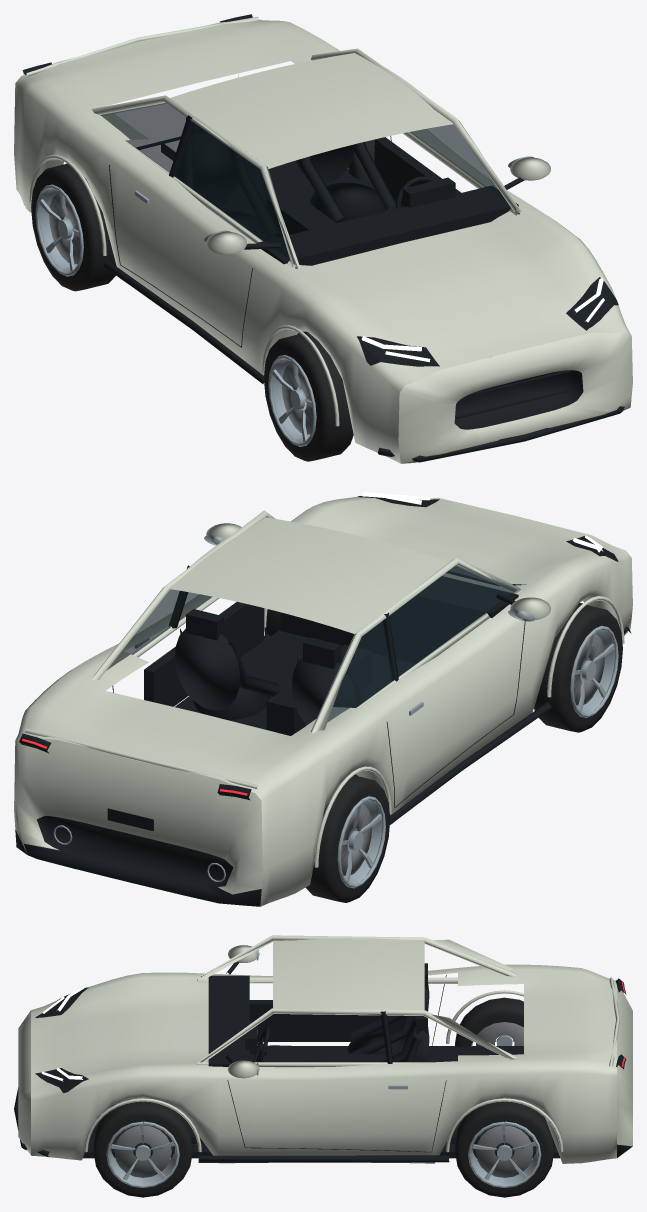
The model's file is aeris-lod1.glb.
3 renders of one model, top to bottom at view 1: azimuth 30°, elevation 25°; view 2: azimuth 150°, elevation 25°; view 3: azimuth 270°, elevation 25°, orthographic. The views are drawn at different scales.
Visible parts, largest first — view 1: sculpted-coachwork_merged, carbon-rear-valance_merged, panoramic-windscreen_merged, profiled-tire (×2), rim-barrel_merged (×2), ventilated-brake-rotor (×2), led-signature_merged; view 2: sculpted-coachwork_merged, carbon-rear-valance_merged, panoramic-windscreen_merged, profiled-tire (×2), rim-barrel_merged (×2), ventilated-brake-rotor (×2), flush-door-handle_merged, led-signature_merged; view 3: sculpted-coachwork_merged, carbon-rear-valance_merged, profiled-tire (×3), ventilated-brake-rotor (×3), rim-barrel_merged (×2), led-signature_merged.
Boxes of the visible parts, bbox=[...] form: sculpted-coachwork_merged: bbox=[14, 16, 632, 463]; carbon-rear-valance_merged: bbox=[22, 14, 624, 462]; panoramic-windscreen_merged: bbox=[100, 103, 516, 264]; profiled-tire (×2): bbox=[31, 163, 353, 461]; rim-barrel_merged (×2): bbox=[35, 184, 316, 446]; ventilated-brake-rotor (×2): bbox=[49, 193, 313, 434]; led-signature_merged: bbox=[361, 278, 604, 362]; sculpted-coachwork_merged: bbox=[14, 497, 632, 906]; carbon-rear-valance_merged: bbox=[15, 496, 631, 906]; panoramic-windscreen_merged: bbox=[107, 565, 516, 721]; profiled-tire (×2): bbox=[305, 603, 622, 902]; rim-barrel_merged (×2): bbox=[337, 625, 618, 888]; ventilated-brake-rotor (×2): bbox=[341, 634, 604, 875]; flush-door-handle_merged: bbox=[53, 535, 535, 881]; led-signature_merged: bbox=[362, 492, 603, 552]; sculpted-coachwork_merged: bbox=[18, 935, 632, 1163]; carbon-rear-valance_merged: bbox=[14, 961, 632, 1162]; profiled-tire (×3): bbox=[93, 997, 554, 1197]; ventilated-brake-rotor (×3): bbox=[114, 1022, 533, 1177]; rim-barrel_merged (×2): bbox=[106, 1121, 541, 1187]; led-signature_merged: bbox=[41, 986, 84, 1081].
Bounding box in the file's own units: 2.09 × 1.3 × 4.25.
Materials: 9 (1 with a texture image).
